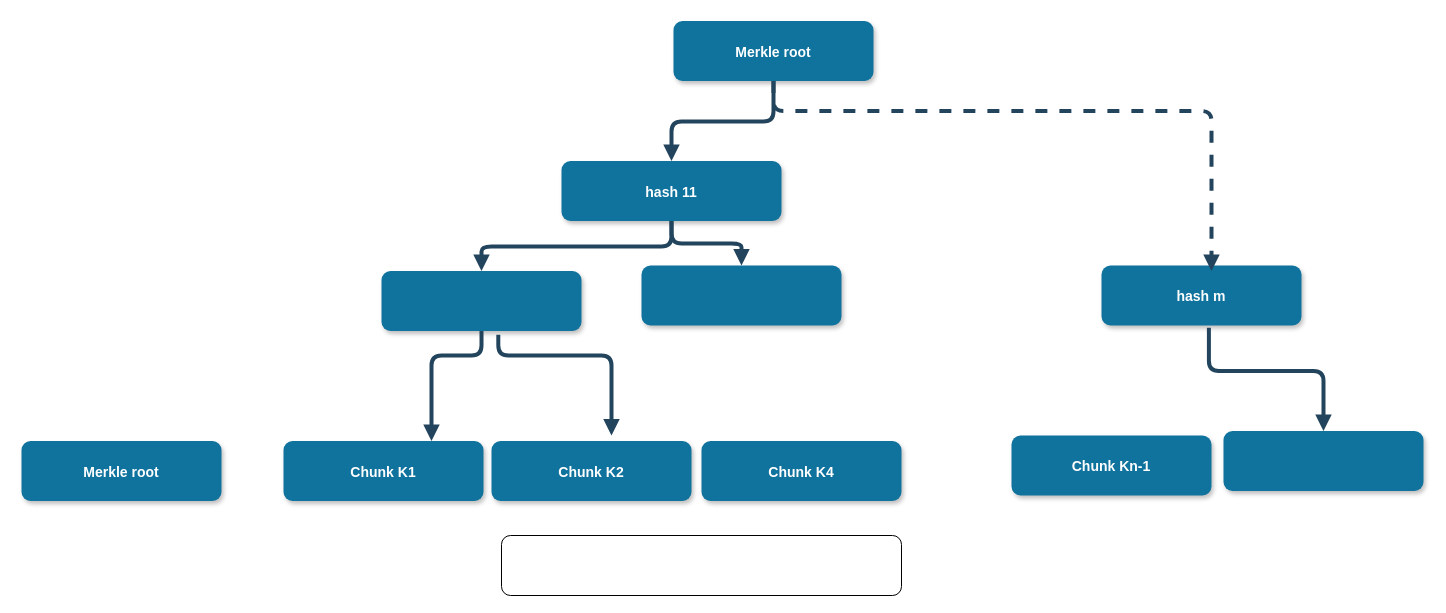
Image size: 1446x613. Some labels were removed from this diagram. The centre of each missing label's shape, as x and y in pixels:
"Chunk Kn" goes at point 1324,462.
"hash 1" goes at point 482,302.
"hash 2" goes at point 742,296.
"RANDOM TEST PLAY" goes at point 701,565.
